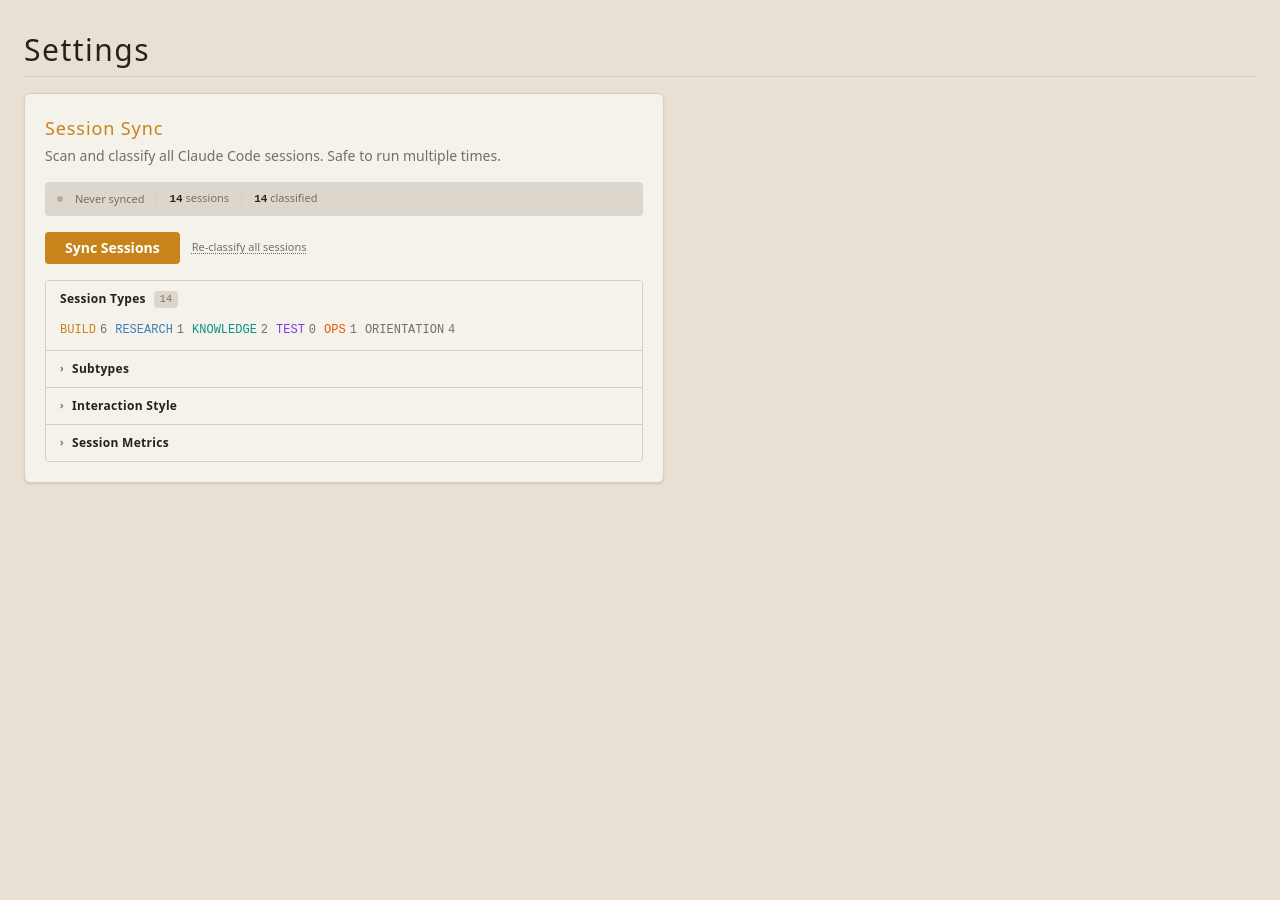
Test: SettingsView › expands and collapses accordion sections on click
This screenshot has width=1280, height=900.
Check: the text "sessions" is shown, box [186, 190, 229, 205]
Check: the text "Delegation" is not shown
// Click the "Interaction Style" accordion header to expand it
Click the text "Interaction Style" at {"x": 125, "y": 406}, box [72, 398, 177, 414]
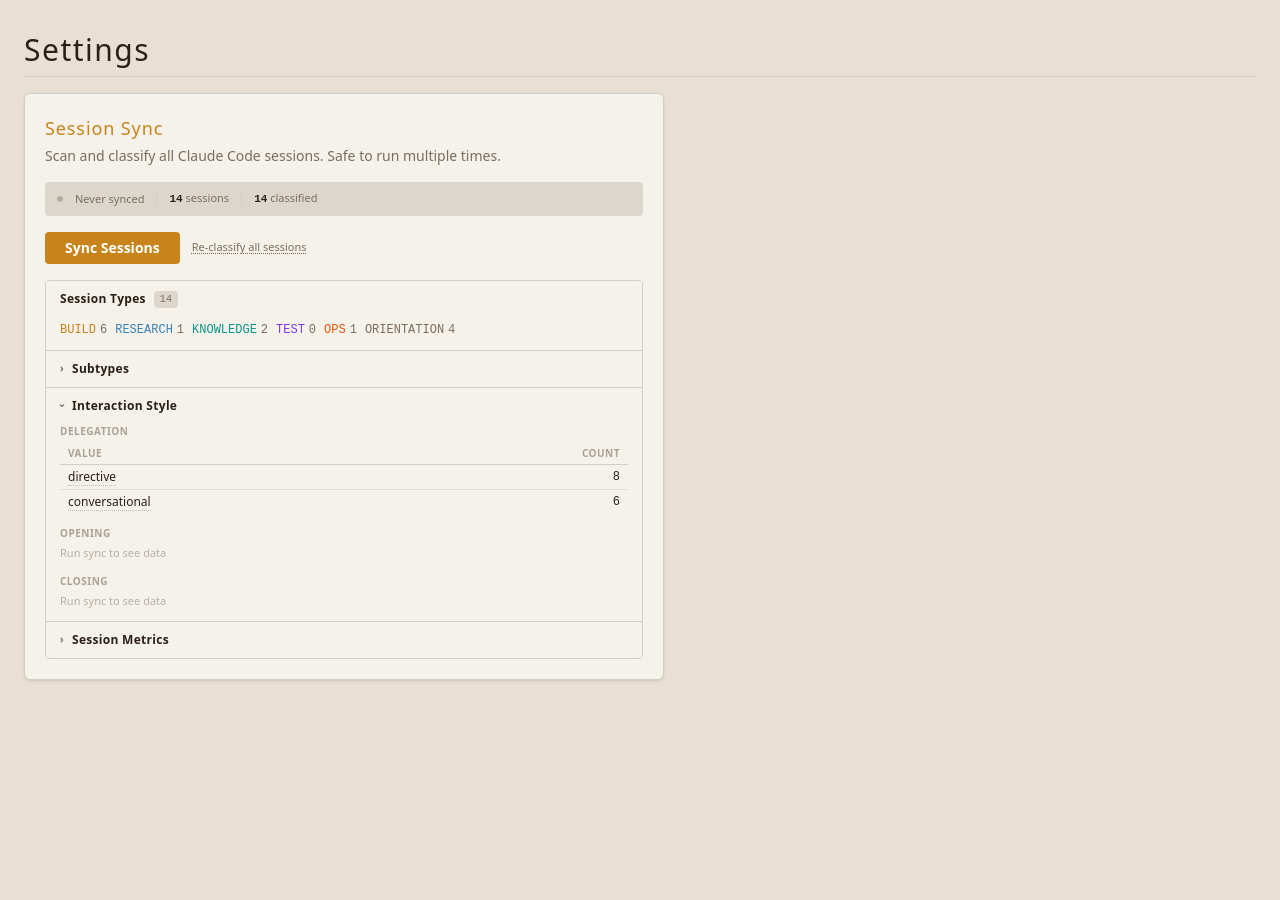
Check: the text "Delegation" is shown, box [60, 424, 128, 438]
// Click again to collapse
Click the text "Interaction Style" at {"x": 125, "y": 406}, box [72, 398, 177, 414]
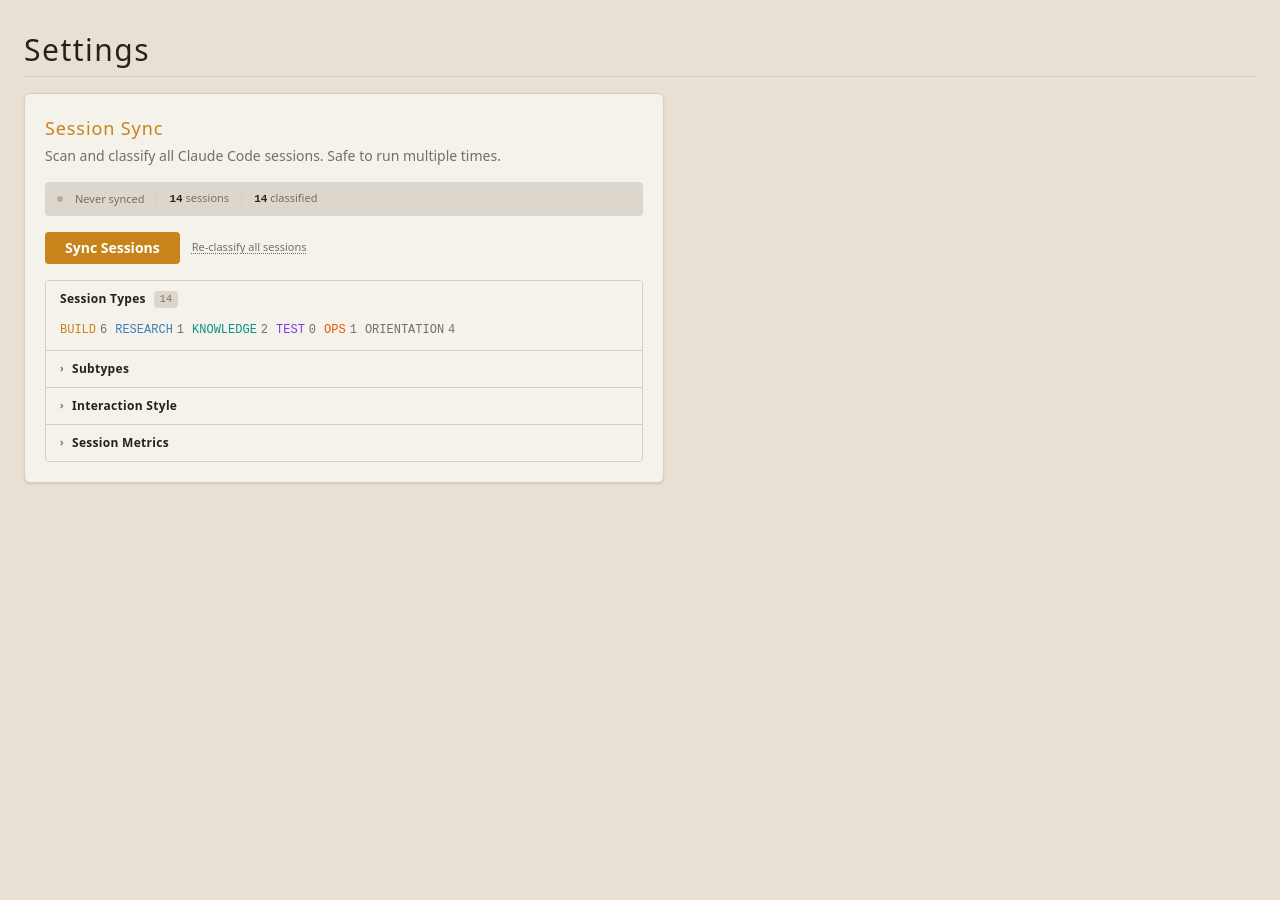
Check: the text "Delegation" is gone
